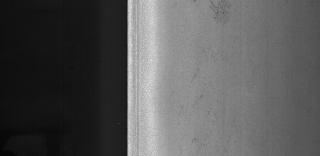water spot: (200, 1, 242, 27)
